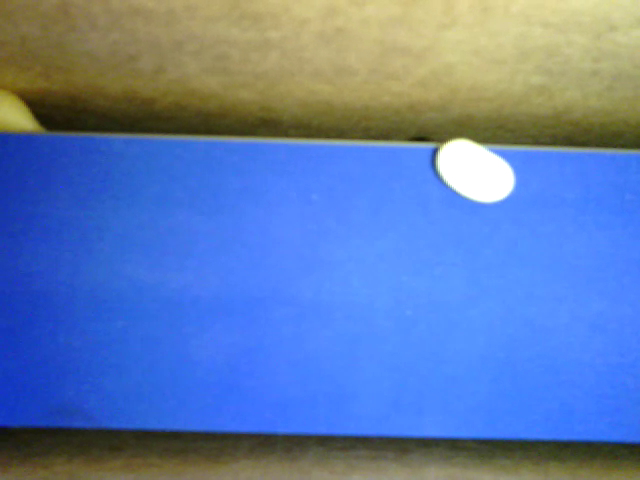shell: (1, 90, 50, 133)
